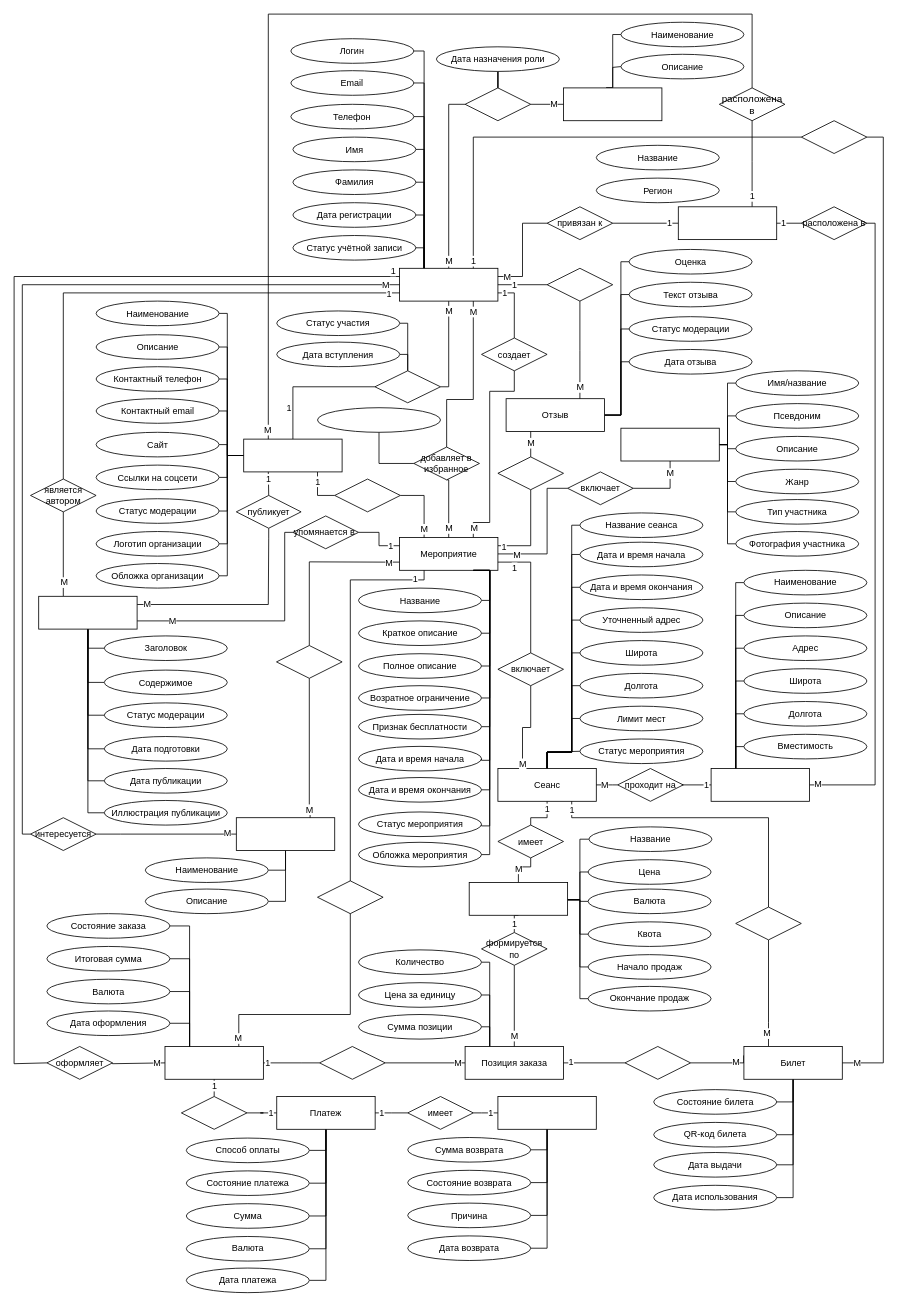
Image size: 899x1308. Some labels were removed from this diagram. Here are the shapes that lost their labels. From the top down, the centre of each, then its label:
the point at 497,104: обладает
the point at 612,104: Роль
the point at 833,137: принадлежит
the point at 727,223: Город
the point at 448,284: Пользователь
the point at 579,284: оставляет
the point at 407,386: состоит в
the point at 379,419: Дата добавления
the point at 292,455: Организация
the point at 669,444: Участник
the point at 530,473: получает
the point at 367,495: организует
the point at 87,612: Публикация/ новость
the point at 309,661: относится к
the point at 760,784: Площадка
the point at 285,834: Категория
the point at 350,897: является предметом
the point at 518,898: Тип билета
the point at 768,923: действителен на
the point at 213,1062: Заказ
the point at 352,1062: содержит
the point at 657,1062: порождает
the point at 214,1112: оплачивается
the point at 546,1112: Возврат
